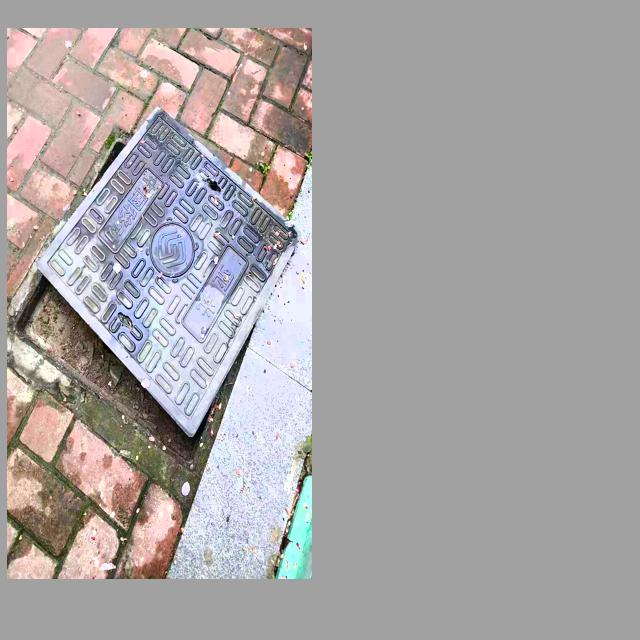uncovered: (8, 105, 299, 468)
